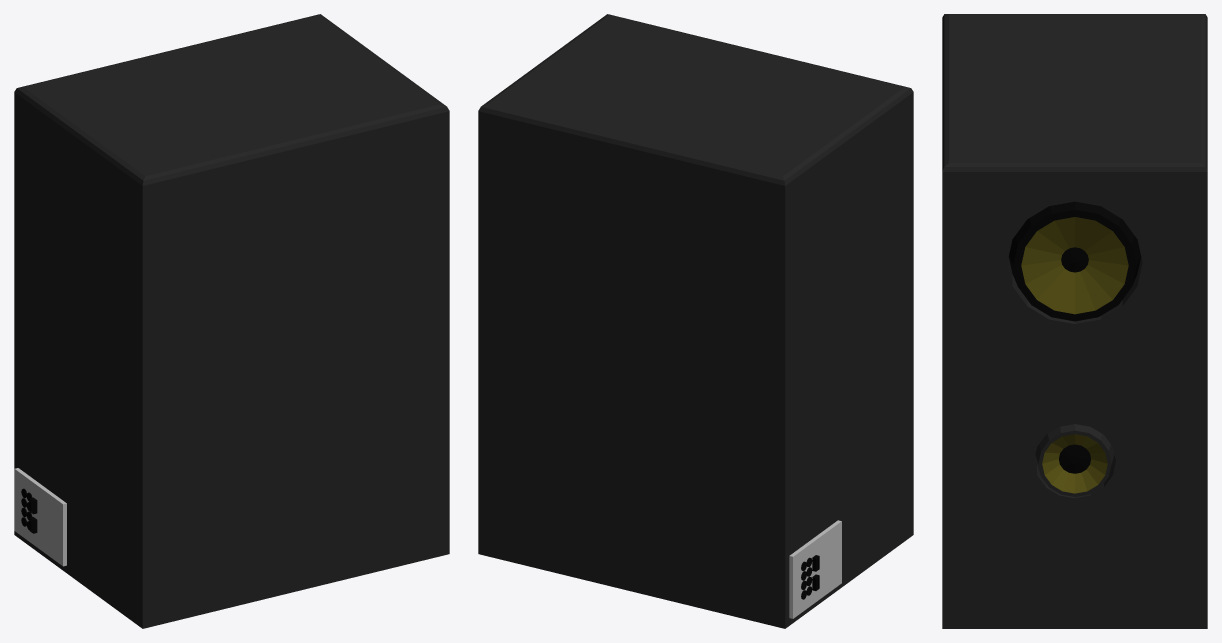
The model's file is Speaker.fbx.
The picture shows the model from 3 angles, left to right: view 1: azimuth 30°, elevation 25°; view 2: azimuth 150°, elevation 25°; view 3: azimuth 270°, elevation 25°; orthographic projection. The views are drawn at different scales.
Parts seen in each view (by area): view 1: Speaker; view 2: Speaker; view 3: Speaker.
Boxes of the visible parts, left/top/right/bottom form: Speaker: left=14, top=14, right=449, bottom=628; Speaker: left=478, top=14, right=913, bottom=628; Speaker: left=942, top=14, right=1207, bottom=628.
Size of the model in its own units: 354 by 474 by 246.
